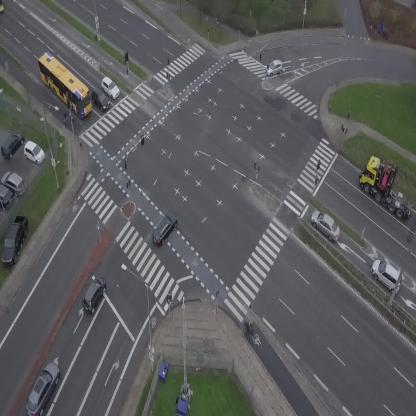bicycle: (240, 319, 258, 342), (212, 14, 222, 26), (62, 110, 69, 125)
bus: (29, 49, 101, 120)
car: (21, 358, 66, 416), (365, 255, 409, 297), (306, 207, 346, 244), (147, 208, 183, 249), (78, 273, 111, 315), (86, 86, 114, 113), (97, 75, 123, 101), (263, 58, 285, 78)
